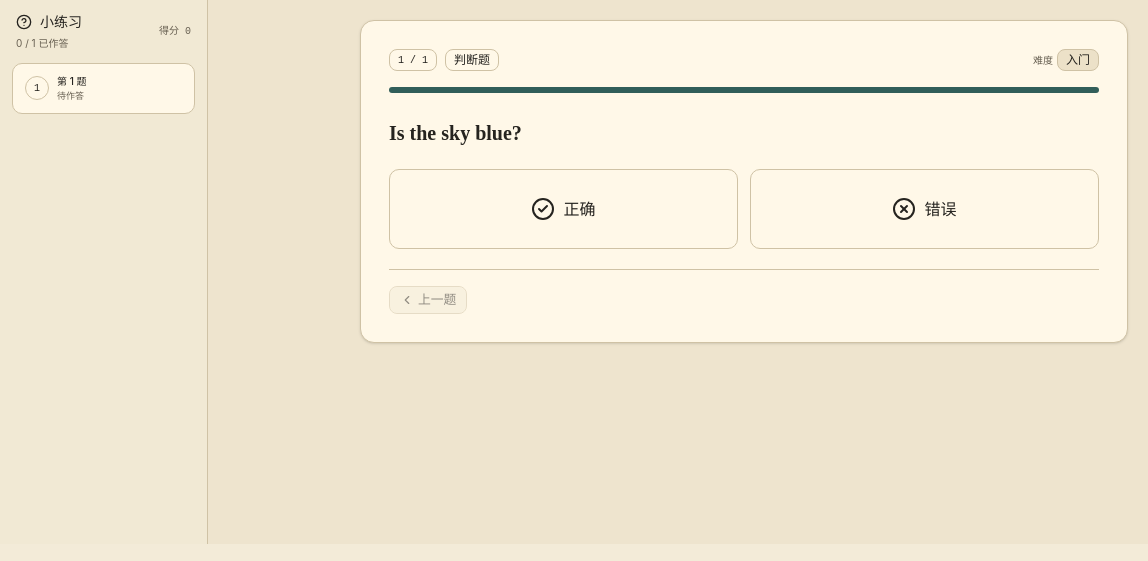
QuizPanel › true_false: selecting correct answer shows feedback
Click the button "正确" at (564, 209), box top-left (389, 169), bottom-right (738, 249)
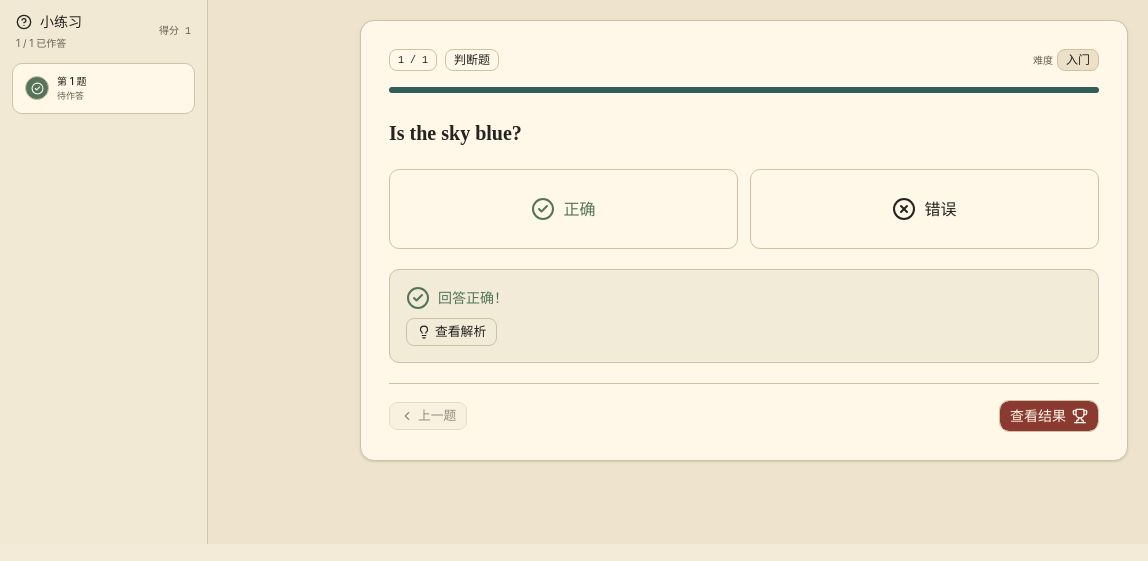
Result: the text "回答正确！" is shown at top-left (406, 286), bottom-right (508, 310)
